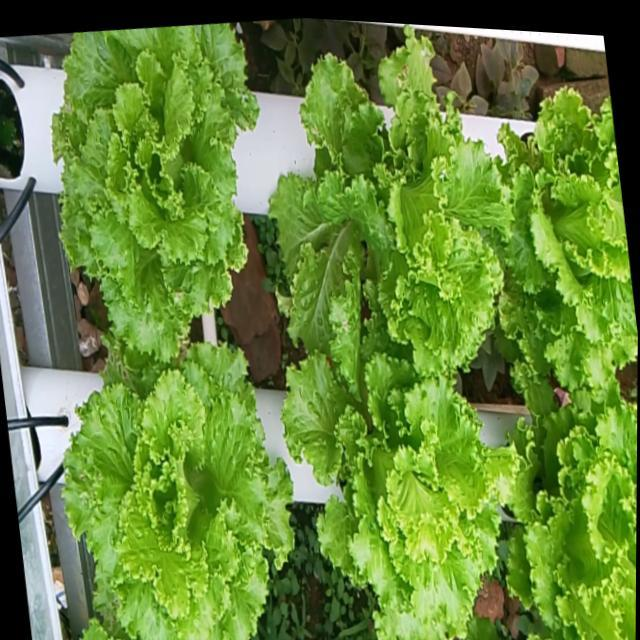Mature: (269, 30, 511, 372), (282, 320, 520, 640), (52, 22, 259, 361), (62, 341, 293, 640), (500, 88, 638, 393), (508, 380, 637, 640)
